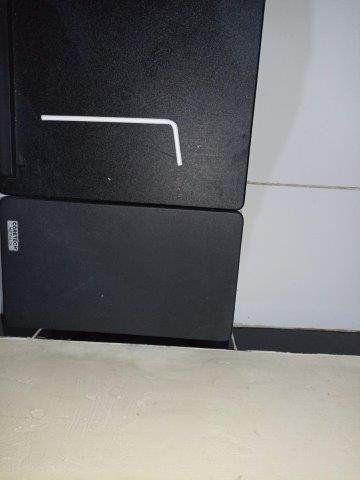sedotan: (41, 113, 181, 165)
